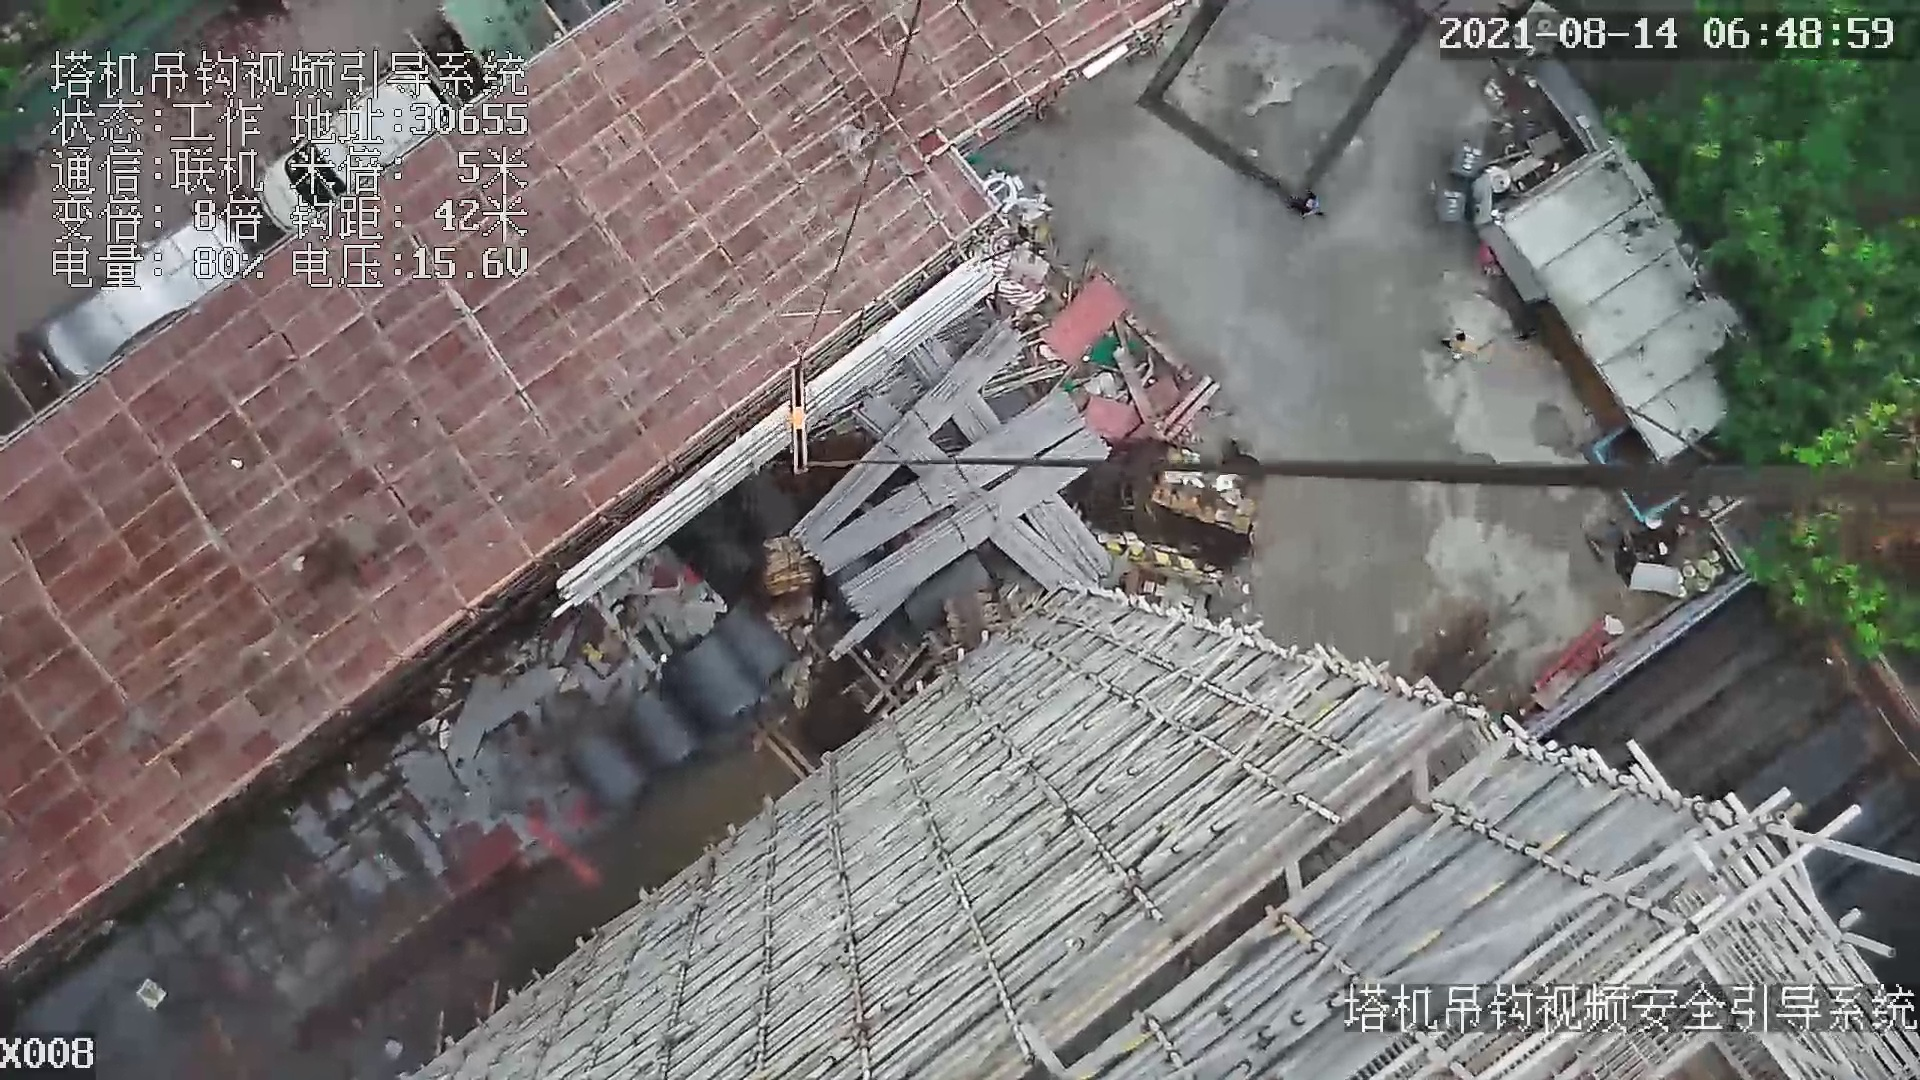hook: (778, 365, 818, 481)
person: (1438, 327, 1477, 363), (1293, 189, 1332, 223)
